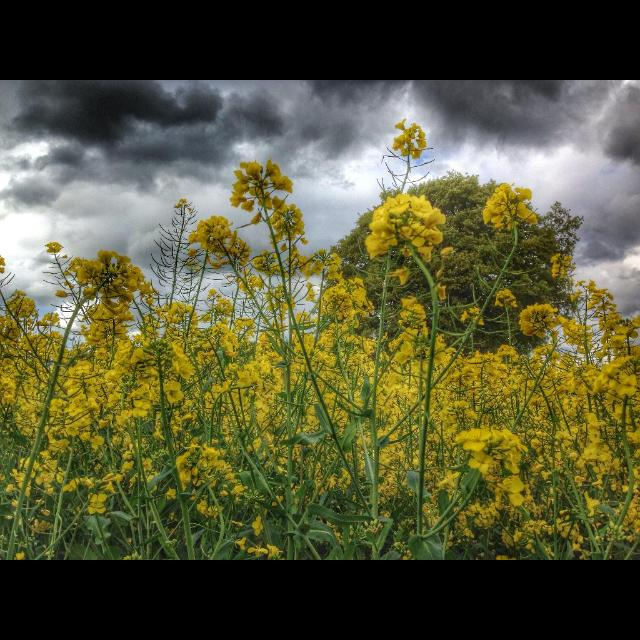Flower: (1, 116, 640, 560), (226, 148, 292, 204)
